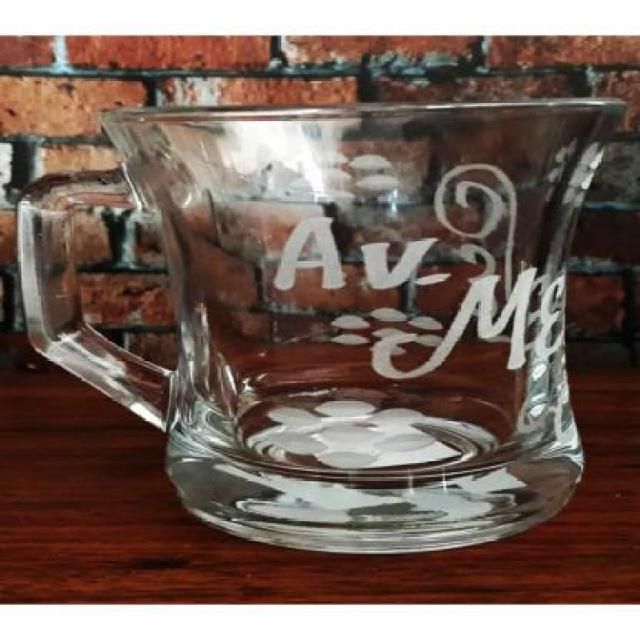taza: (15, 90, 631, 558)
